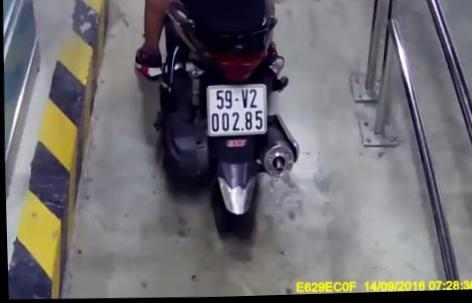LP: (204, 83, 268, 138)
